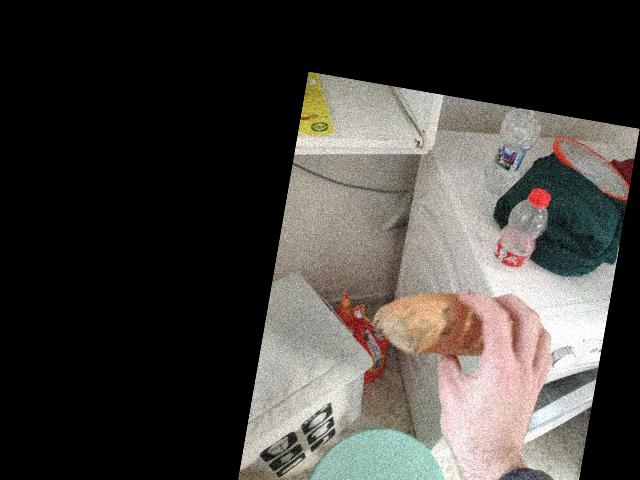sweet_potato: (401, 291, 510, 381)
